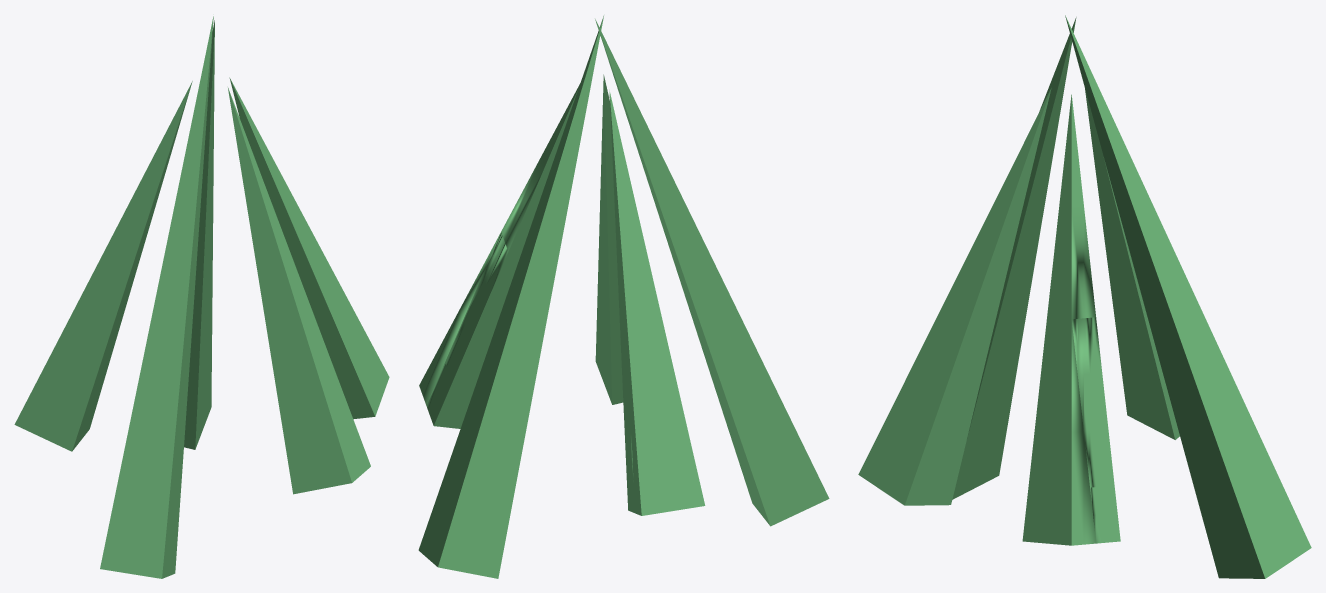
File: grass_tuft.glb
3 renders of one model, left to right at view 1: azimuth 30°, elevation 25°; view 2: azimuth 150°, elevation 25°; view 3: azimuth 270°, elevation 25°, orthographic. The views are drawn at different scales.
Visible parts, largest first — view 1: Grass0; view 2: Grass0; view 3: Grass0.
Part boxes in pixels (x1,y1,x2,y2): Grass0: (14,16,389,578); Grass0: (418,16,829,578); Grass0: (858,15,1311,578).
Bounding box in the file's own units: 0.5279 × 0.7243 × 0.5541.
